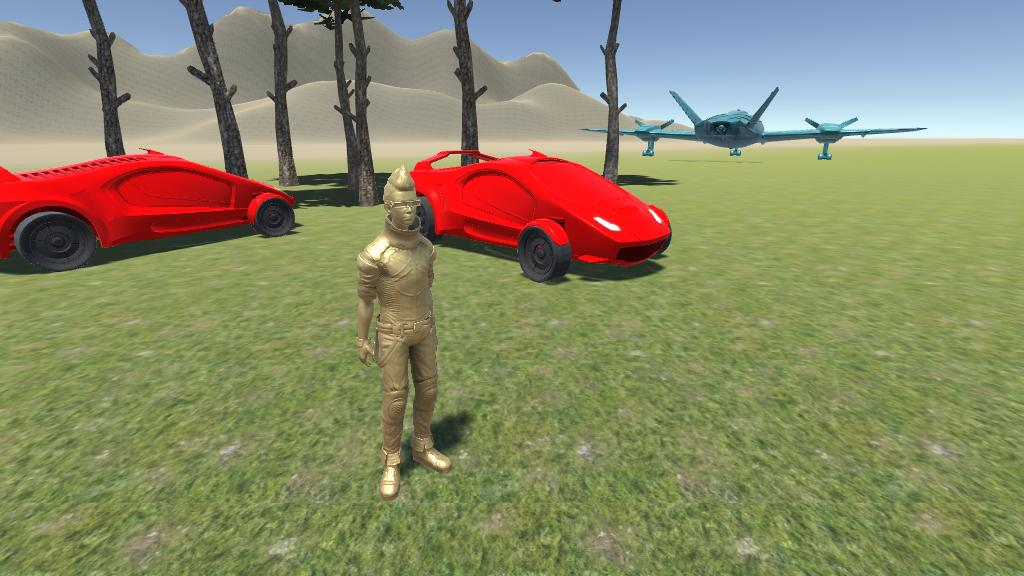car: (0, 149, 294, 272), (404, 150, 671, 283)
ethan: (356, 166, 452, 501)
